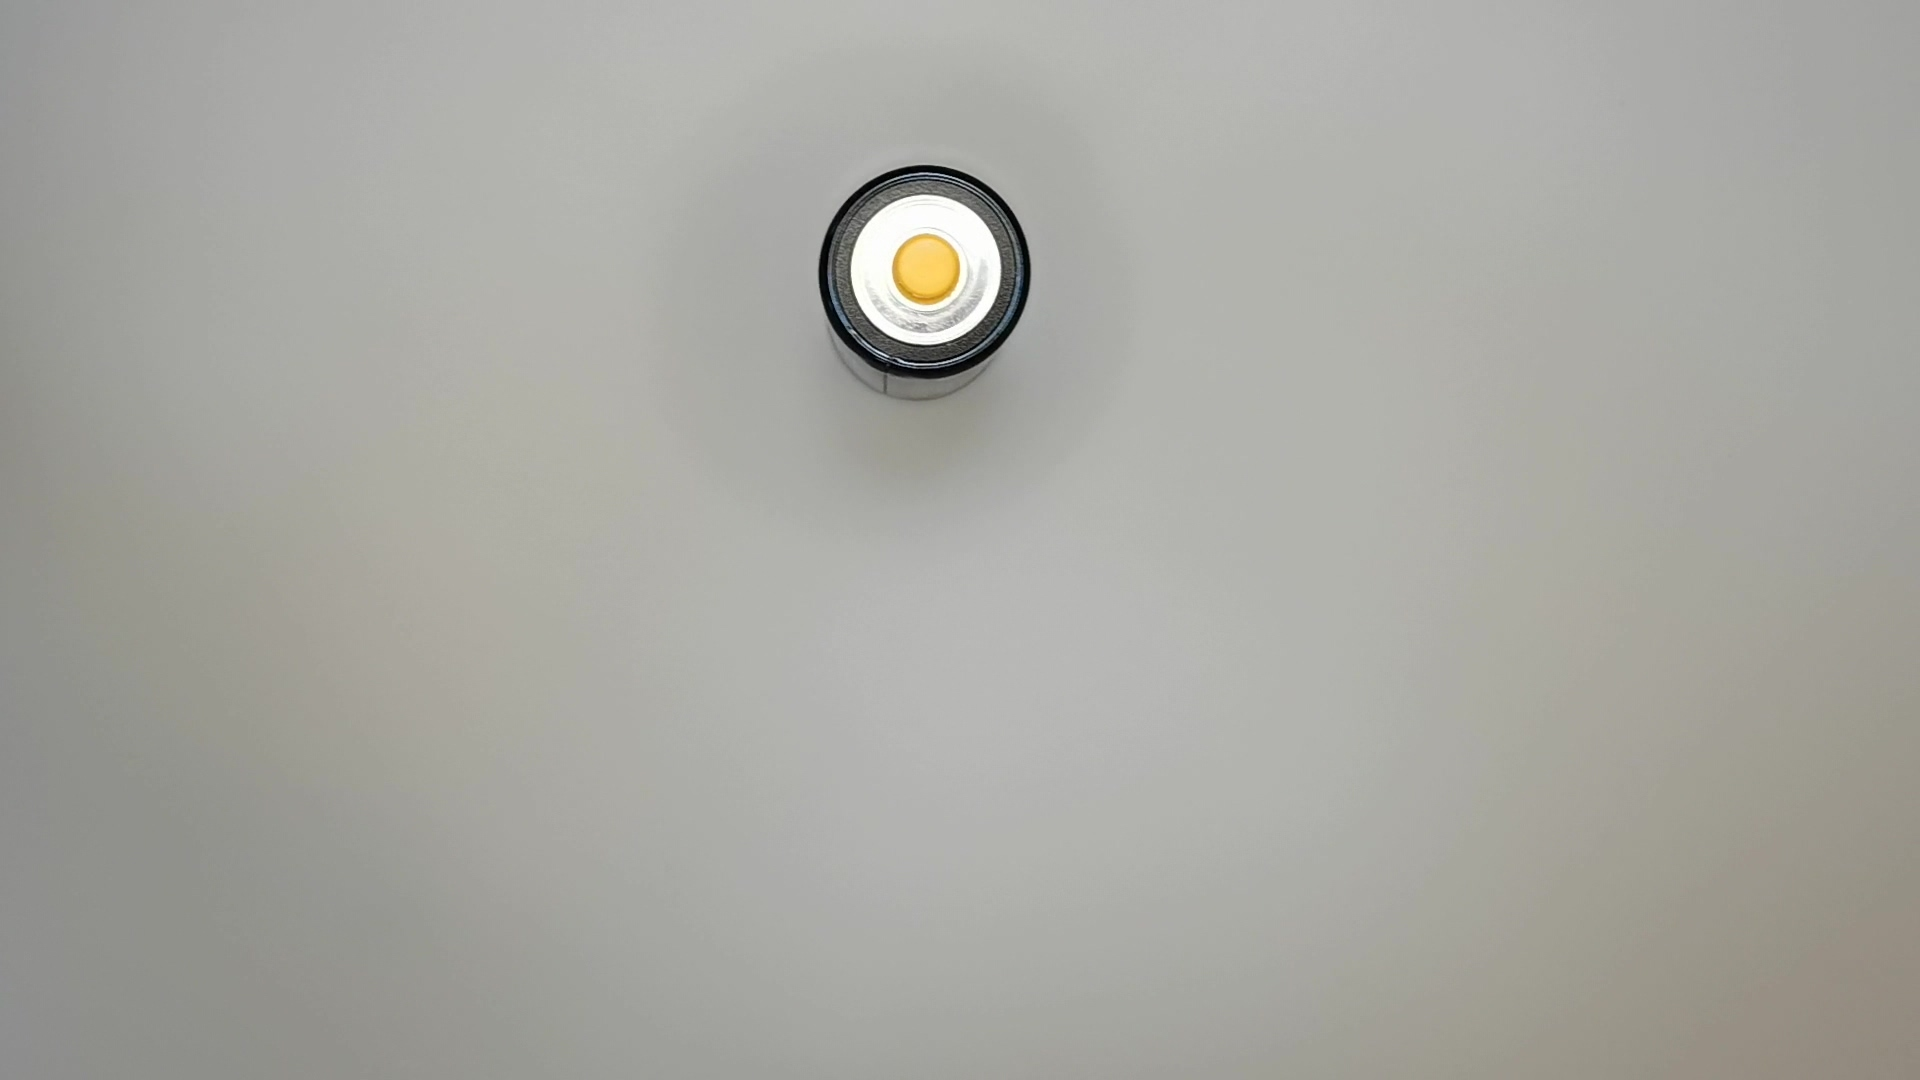battery: (812, 161, 1034, 400)
